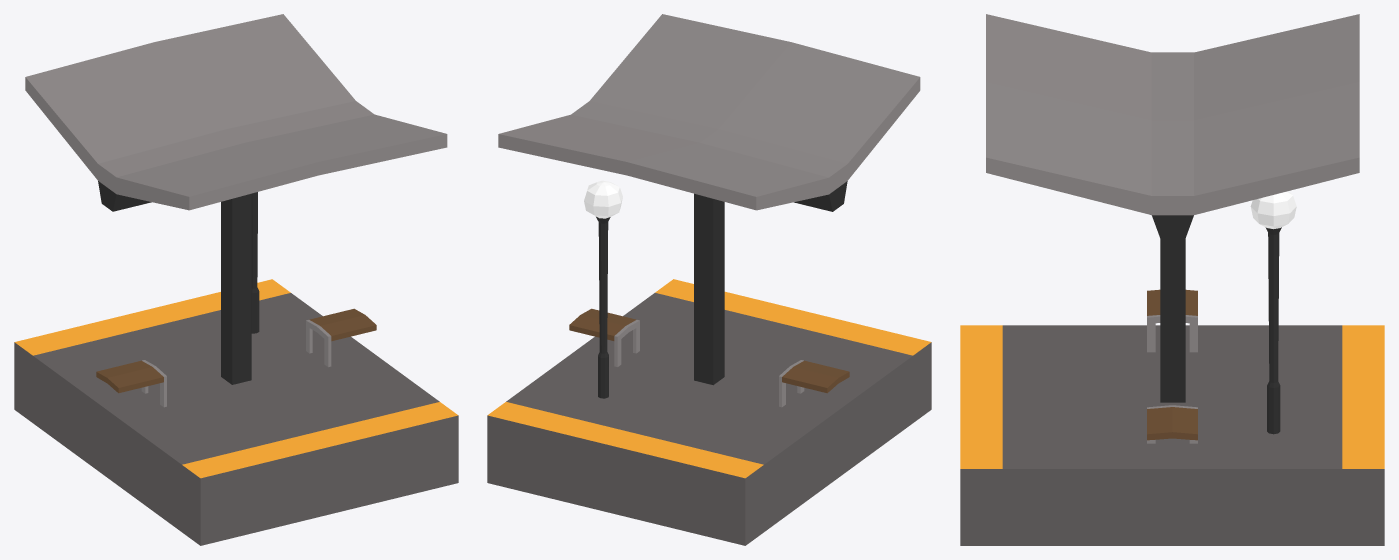
The model's file is train-station-platform-light-small.glb.
The picture shows the model from 3 angles, left to right: view 1: azimuth 30°, elevation 25°; view 2: azimuth 150°, elevation 25°; view 3: azimuth 270°, elevation 25°; orthographic projection. The views are drawn at different scales.
Visible parts, largest first — view 1: train-station-platform-light-small; view 2: train-station-platform-light-small; view 3: train-station-platform-light-small.
Part boxes in pixels (bbox=[...]): train-station-platform-light-small: bbox=[14, 14, 458, 545]; train-station-platform-light-small: bbox=[487, 14, 931, 545]; train-station-platform-light-small: bbox=[960, 14, 1384, 545].
Bounding box in the file's own units: 4 × 5.1 × 5.
Materials: 1 (1 with a texture image).
